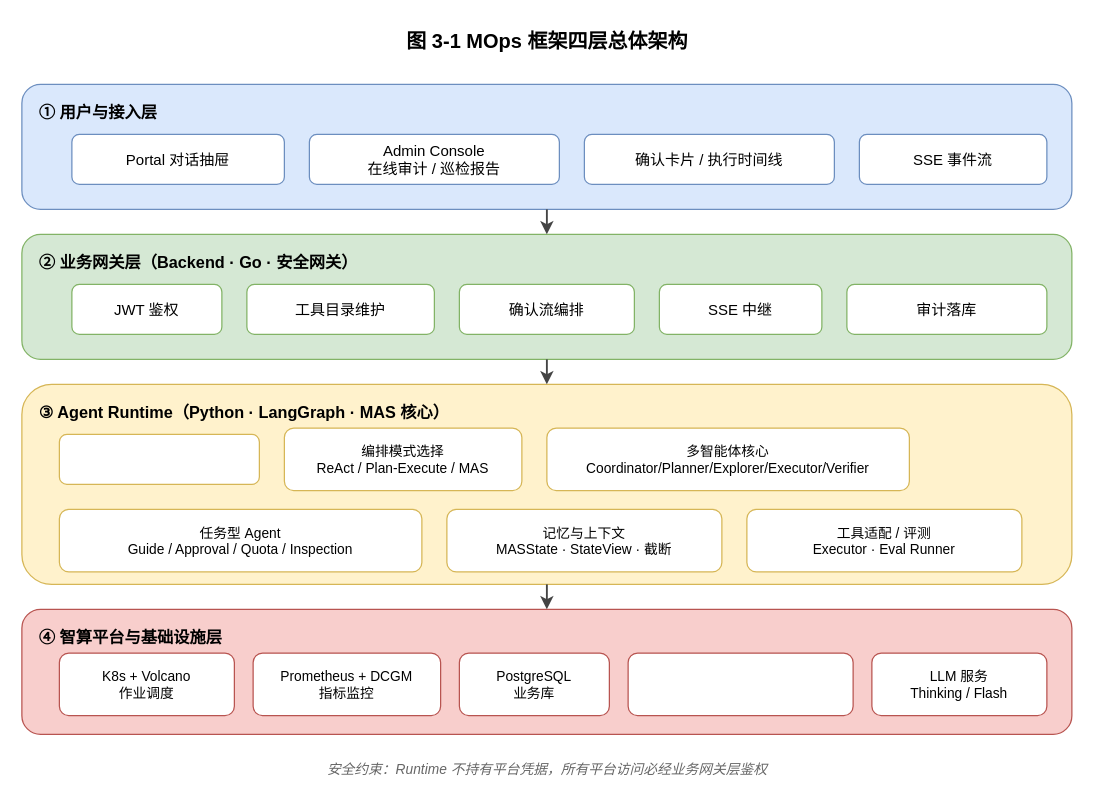
The diagram is 1094 pixels wide and 799 high, and some of its shapes have lost their labels. The centre of each missing label's shape, as x and y in pixels:
"Harbor / NFS / Ceph 镜像与存储" goes at point (740, 684).
"意图路由 IntentRouter" goes at point (158, 458).
